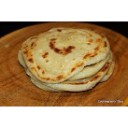parota: (23, 29, 112, 89)
